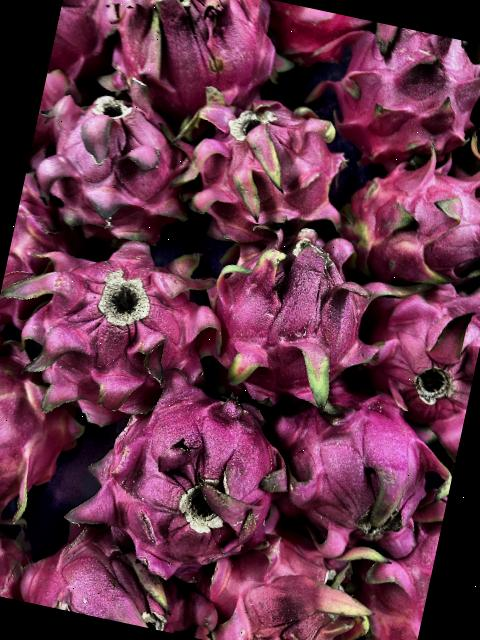buah-naga-matang: (76, 350, 302, 586), (8, 219, 232, 435), (198, 220, 398, 422), (248, 370, 456, 558), (169, 76, 361, 254), (28, 71, 206, 247), (20, 512, 230, 640), (309, 13, 480, 163), (344, 260, 480, 441), (333, 134, 480, 292), (92, 0, 281, 120), (194, 520, 378, 640), (0, 342, 103, 553), (0, 168, 81, 333), (350, 500, 444, 640), (0, 508, 36, 600)
